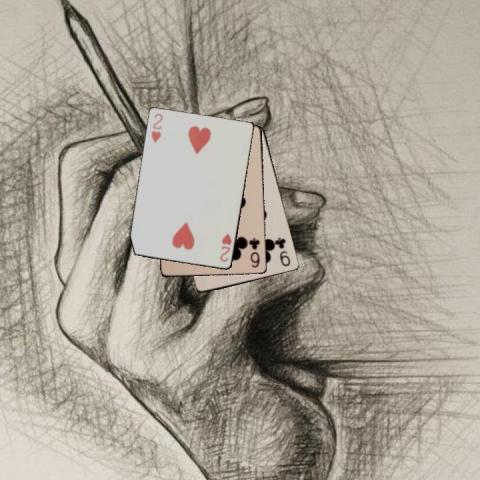2h: (148, 111, 164, 144), (218, 231, 234, 263)
6c: (248, 236, 261, 270)
9c: (274, 235, 292, 268)
